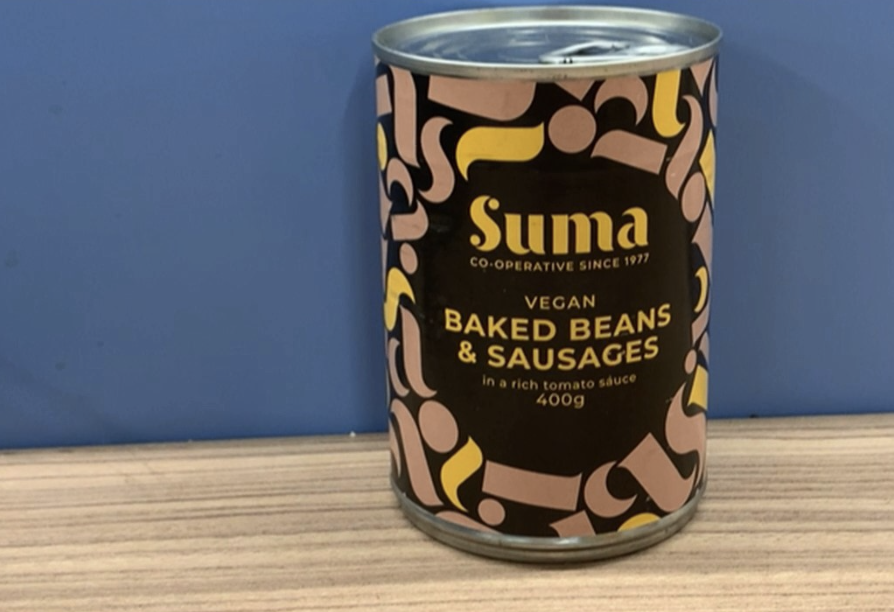Baked beans_400-499g: (399, 108, 688, 518)
